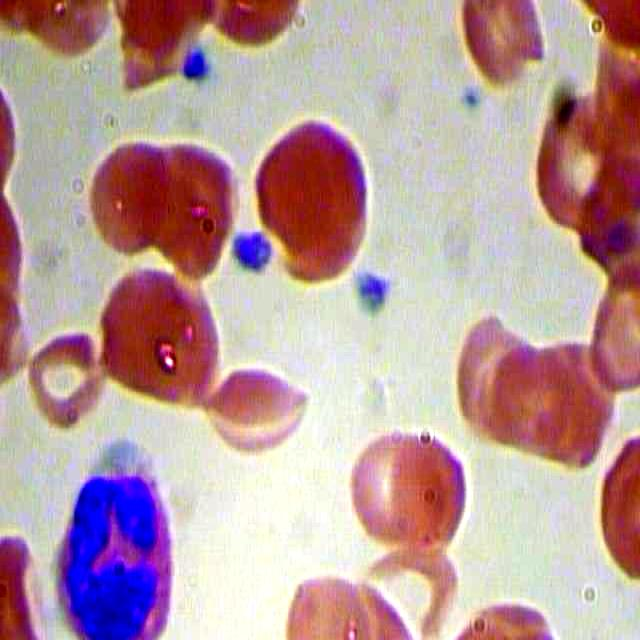Platelets: (42, 460, 185, 640), (224, 224, 273, 284), (345, 264, 396, 319), (177, 46, 215, 86)
RBC: (247, 111, 375, 285), (95, 260, 222, 421), (141, 138, 241, 282), (456, 312, 544, 459), (201, 348, 316, 455), (83, 134, 180, 258), (391, 425, 479, 560), (341, 419, 429, 553), (20, 324, 105, 437), (460, 1, 548, 95)
